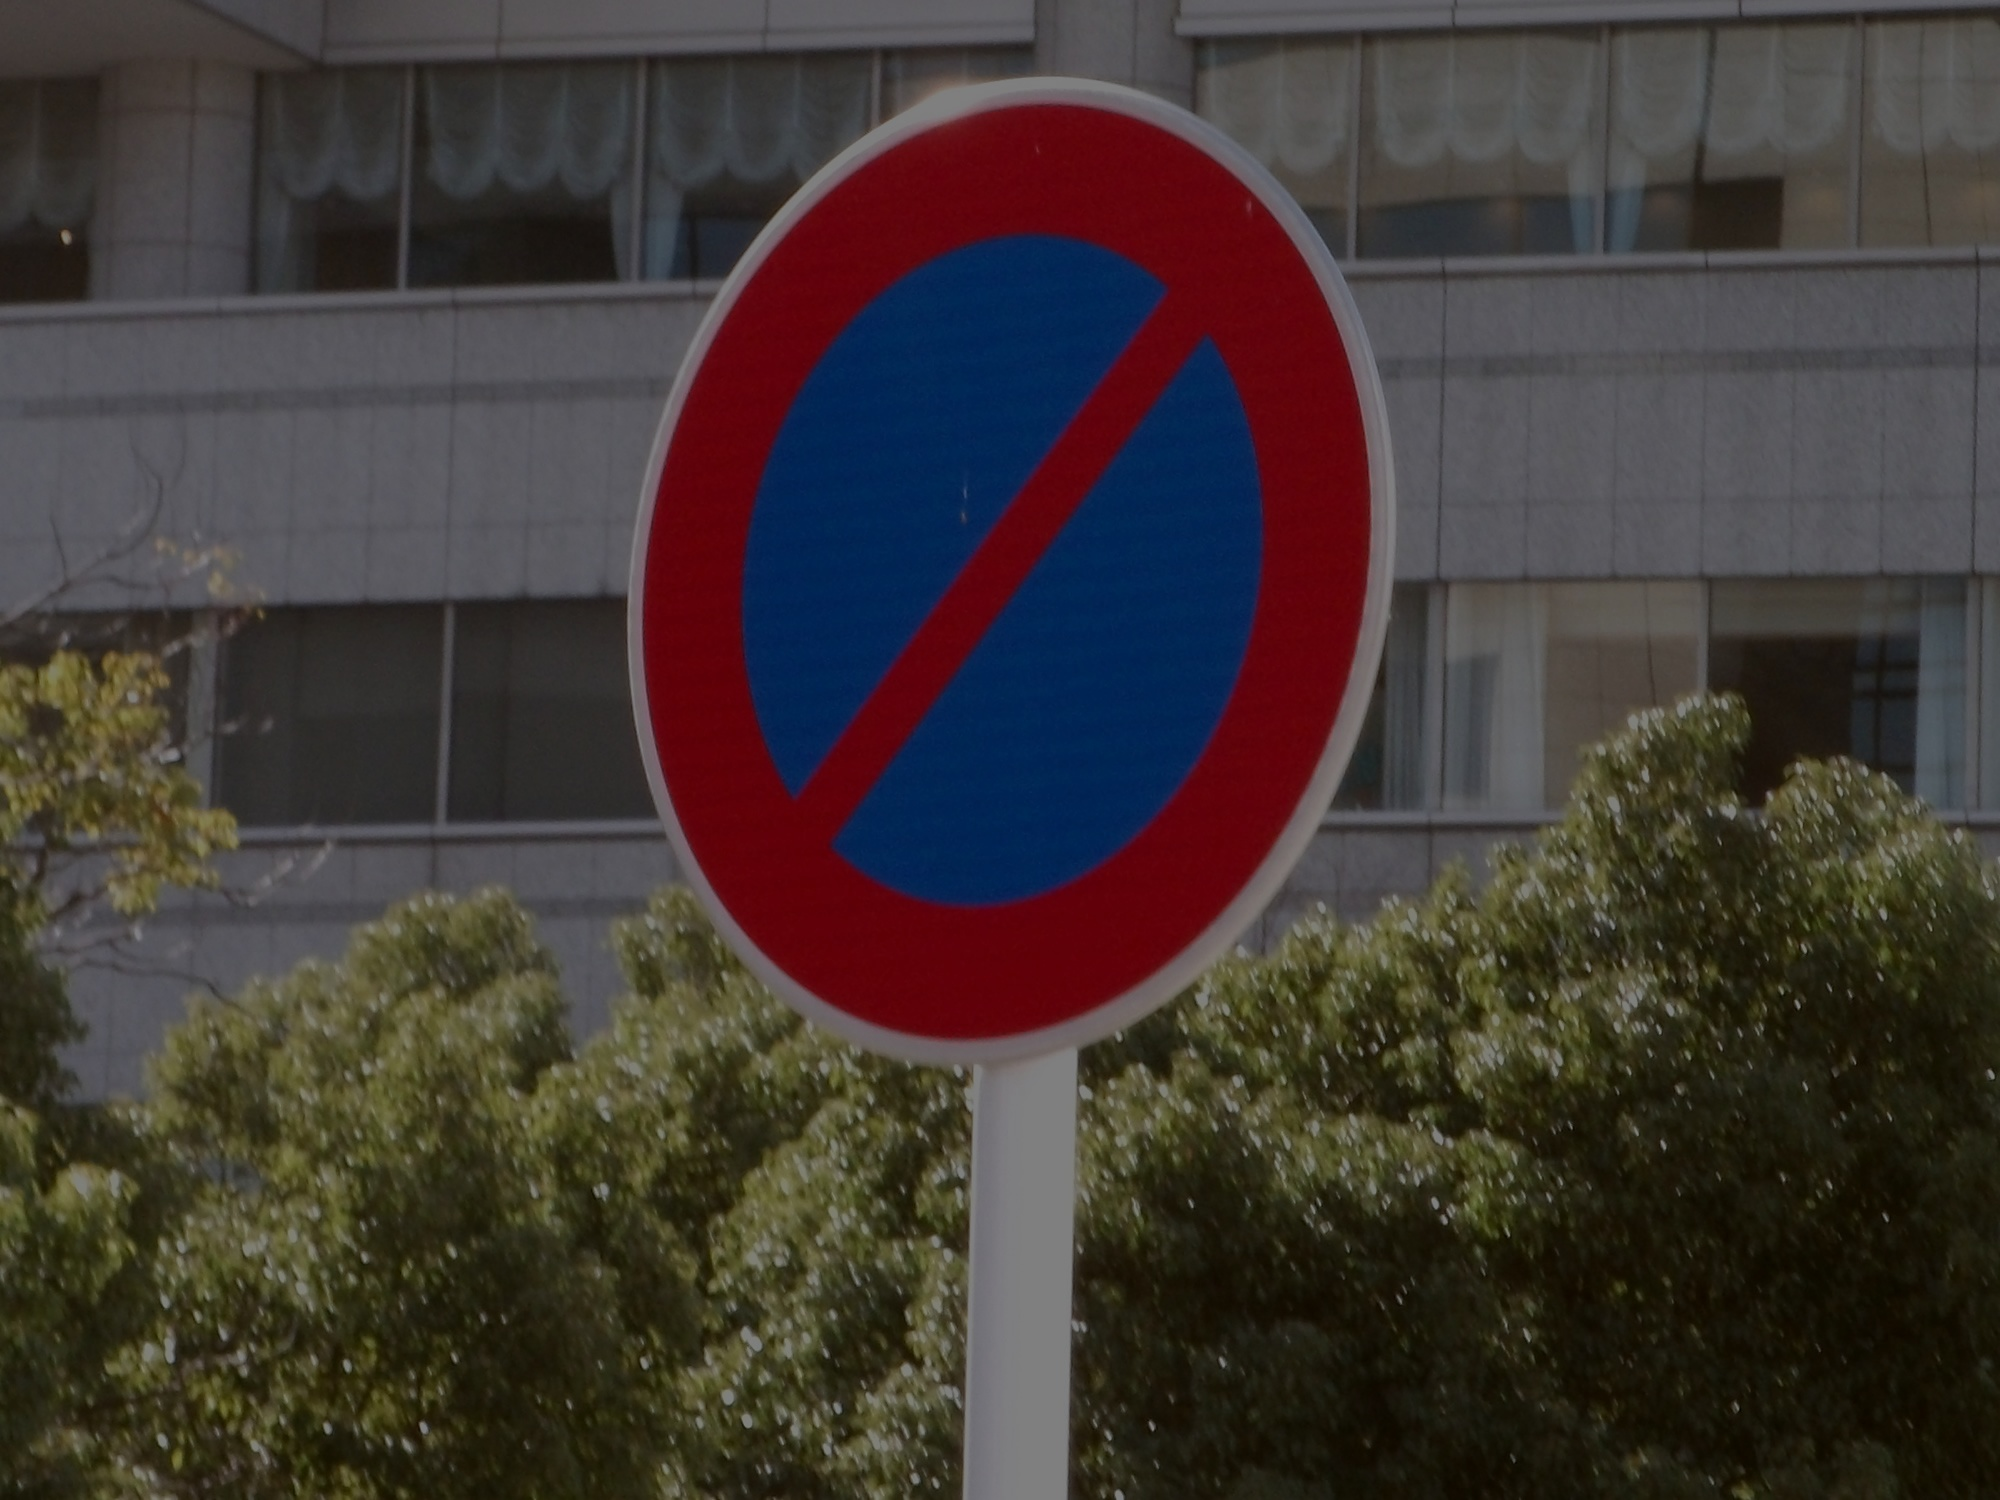Prohibition_sign: (551, 57, 1369, 1053)
